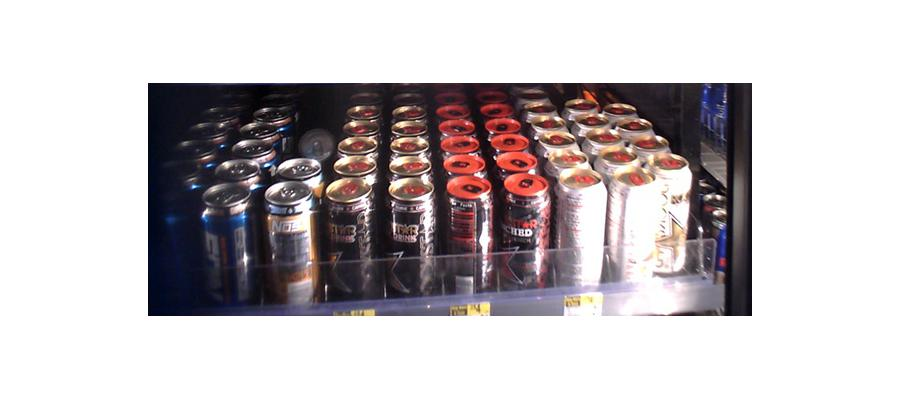bottle: (612, 159, 684, 304), (201, 176, 258, 303), (262, 180, 312, 301), (324, 175, 374, 295), (499, 172, 549, 290), (556, 168, 605, 288), (443, 173, 492, 293), (384, 177, 434, 294)
